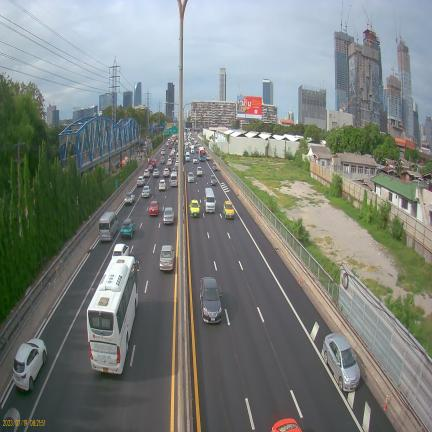bus: (87, 256, 139, 374), (199, 149, 206, 161)
car: (323, 333, 360, 391), (13, 339, 47, 391), (200, 277, 222, 323), (160, 245, 174, 271), (121, 218, 135, 239), (112, 243, 129, 257), (163, 207, 174, 224), (149, 201, 159, 216), (124, 192, 135, 205), (142, 185, 151, 197), (159, 179, 166, 191), (153, 168, 160, 178), (137, 176, 144, 186), (210, 175, 217, 185), (187, 172, 194, 182), (163, 168, 169, 177), (197, 166, 202, 176), (143, 169, 149, 177), (167, 158, 172, 167), (212, 163, 217, 171), (148, 164, 153, 172), (193, 157, 198, 164), (175, 159, 179, 167), (206, 154, 210, 160), (161, 149, 165, 155), (196, 146, 199, 153)
pickup: (160, 156, 165, 164)
taxi: (189, 199, 200, 217), (223, 201, 234, 219)
truck: (190, 144, 195, 153)
van: (99, 211, 118, 241), (204, 188, 216, 212), (170, 171, 178, 187), (185, 151, 190, 162)
